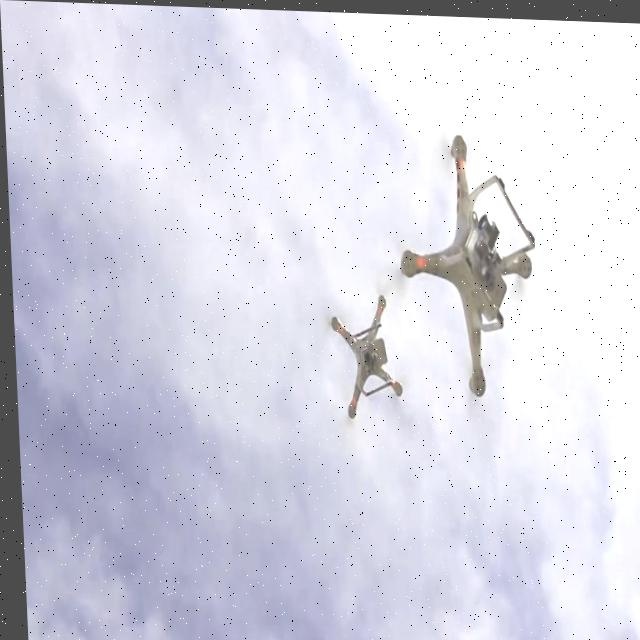drone: (394, 122, 541, 397), (323, 284, 403, 416)
